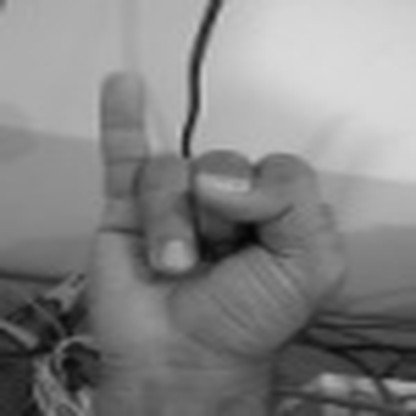i: (82, 67, 350, 375)
